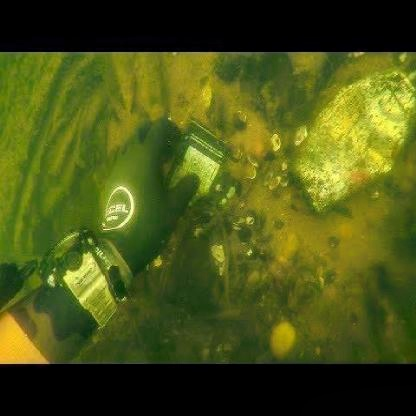electronics: (40, 228, 119, 327), (164, 118, 224, 207)
